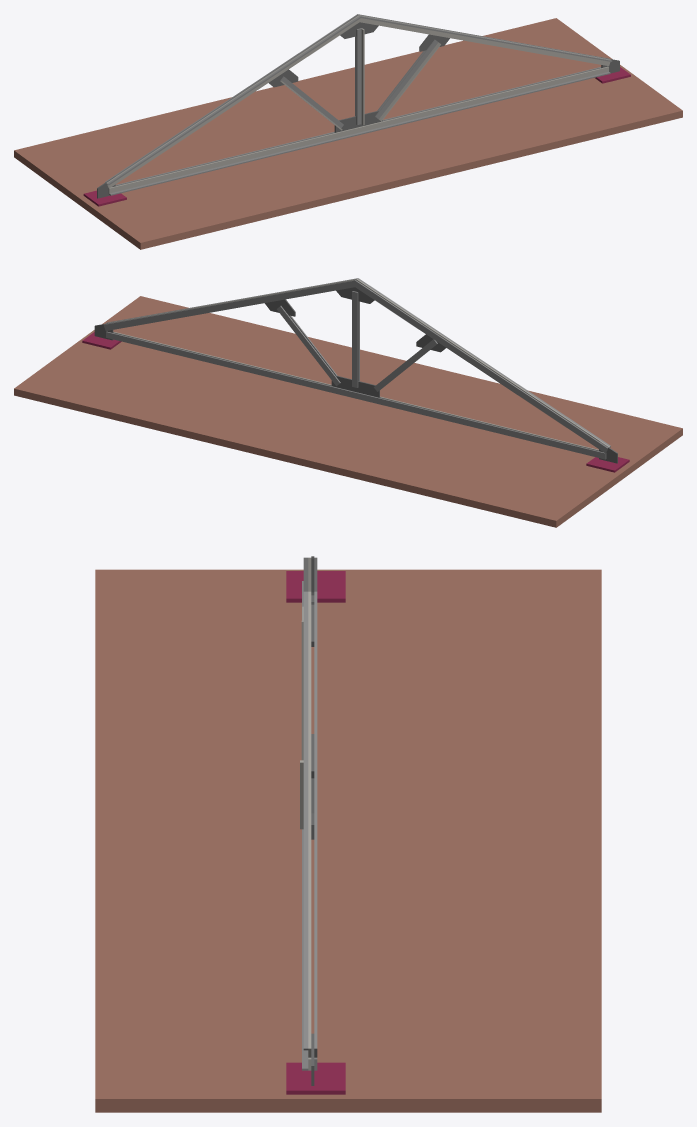
File: maqueta-MA03.glb
3 renders of one model, top to bottom at view 1: azimuth 30°, elevation 25°; view 2: azimuth 150°, elevation 25°; view 3: azimuth 270°, elevation 25°, orthographic. The views are drawn at different scales.
Parts seen in each view (by area): view 1: geometry_0, 3______011.obj, 5______011.obj, 1______011.obj, 2______011.obj; view 2: geometry_0, 5______011.obj, 3______011.obj, 1______011.obj, 2______011.obj; view 3: geometry_0, 5______011.obj, 2______011.obj, 3______011.obj, 1______011.obj.
Part boxes in pixels (x1,y1,x2,y2): geometry_0: (14, 18, 682, 249); 3______011.obj: (106, 15, 610, 194); 5______011.obj: (105, 14, 612, 195); 1______011.obj: (97, 22, 619, 198); 2______011.obj: (83, 67, 630, 206); geometry_0: (14, 296, 682, 527); 5______011.obj: (103, 278, 610, 459); 3______011.obj: (106, 279, 609, 450); 1______011.obj: (94, 287, 617, 463); 2______011.obj: (82, 332, 629, 472); geometry_0: (95, 569, 601, 1112); 5______011.obj: (302, 557, 317, 1070); 2______011.obj: (286, 571, 345, 1094); 3______011.obj: (300, 557, 311, 1070); 1______011.obj: (311, 556, 314, 1085).
Size of the model in its own units: 1.64 by 0.3722 by 0.663.
